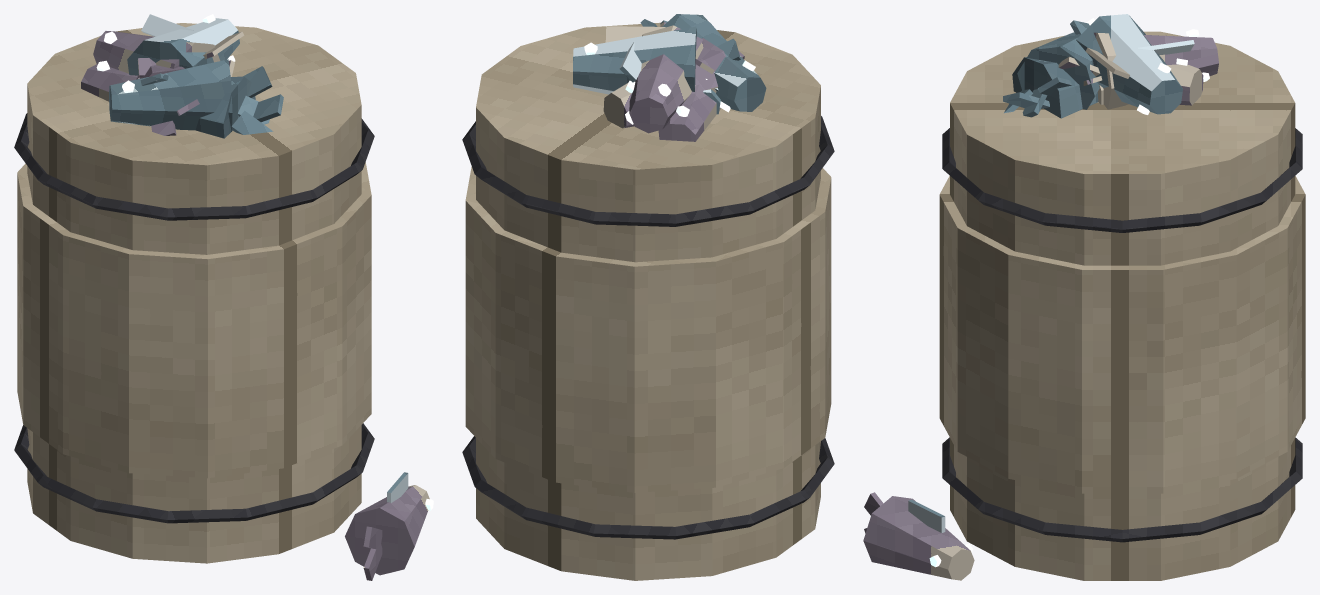
File: fish_barrel.glb
3 views of the same model, side by side, from view 1: azimuth 30°, elevation 25°; view 2: azimuth 150°, elevation 25°; view 3: azimuth 270°, elevation 25° (orthographic). The views are drawn at different scales.
Visible parts, largest first — view 1: body; view 2: body; view 3: body.
Part boxes in pixels (<box>): body: <box>14,14,433,580</box>; body: <box>462,14,834,580</box>; body: <box>863,14,1305,580</box>.
Bounding box in the file's own units: 0.642 × 0.9484 × 0.7684.
6 materials, 4 textured.
